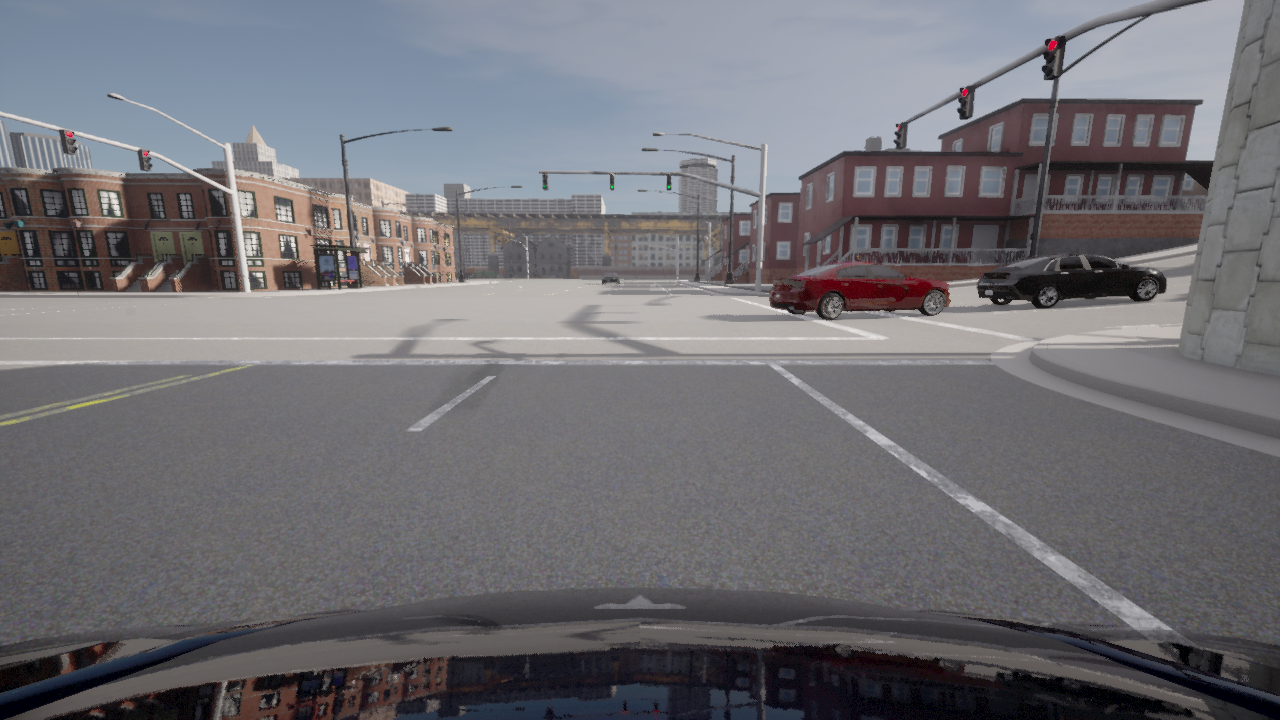cyclist: (0, 588, 1279, 719), (769, 261, 951, 320), (976, 253, 1166, 308), (600, 273, 618, 283)
pedestrian: (856, 255, 861, 260)
